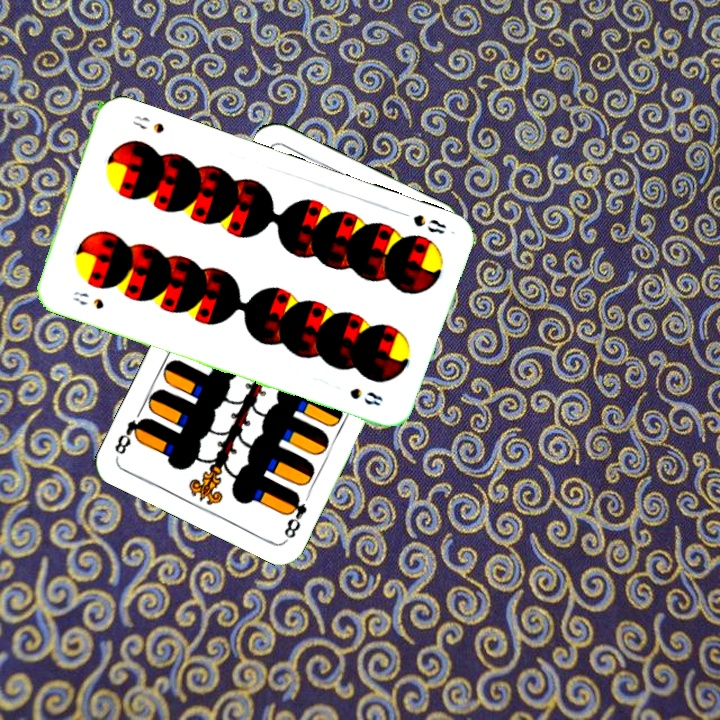E8: (280, 488, 310, 542)
S8: (394, 206, 449, 237), (69, 287, 106, 312)
